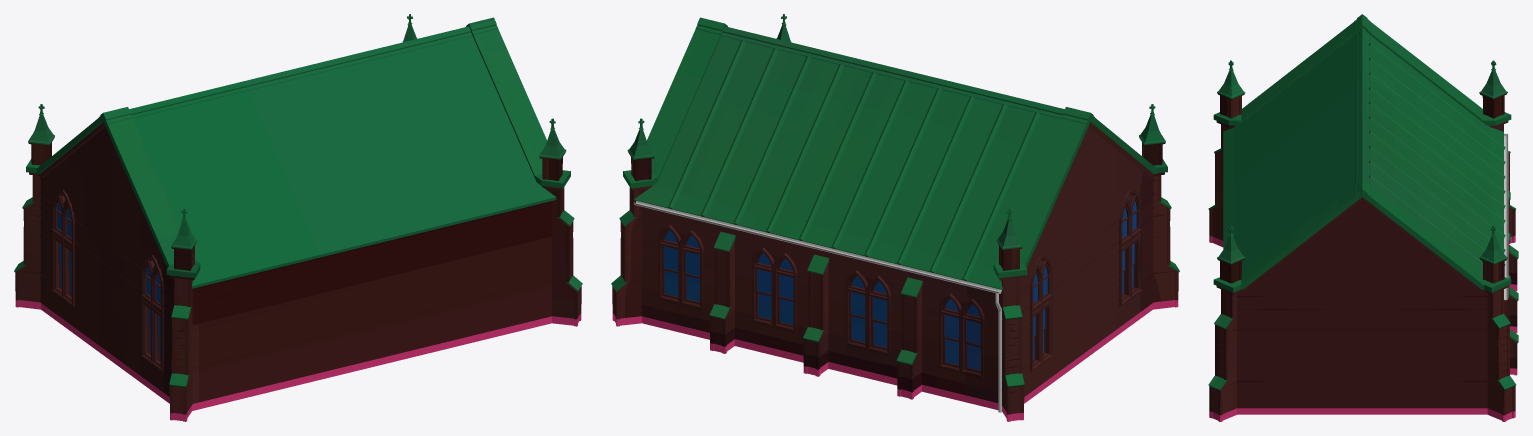
The model's file is Church.fbx.
3 renders of one model, left to right at view 1: azimuth 30°, elevation 25°; view 2: azimuth 150°, elevation 25°; view 3: azimuth 270°, elevation 25°, orthographic. The views are drawn at different scales.
Visible parts, largest first — view 1: SM_Hometown_Church_01.mo; view 2: SM_Hometown_Church_01.mo; view 3: SM_Hometown_Church_01.mo.
Boxes of the visible parts, x1,y1,x2,y2 form: SM_Hometown_Church_01.mo: (14,14,582,421); SM_Hometown_Church_01.mo: (611,14,1179,421); SM_Hometown_Church_01.mo: (1208,14,1518,421).
Bounding box in the file's own units: 2272 × 1302 × 1604.
